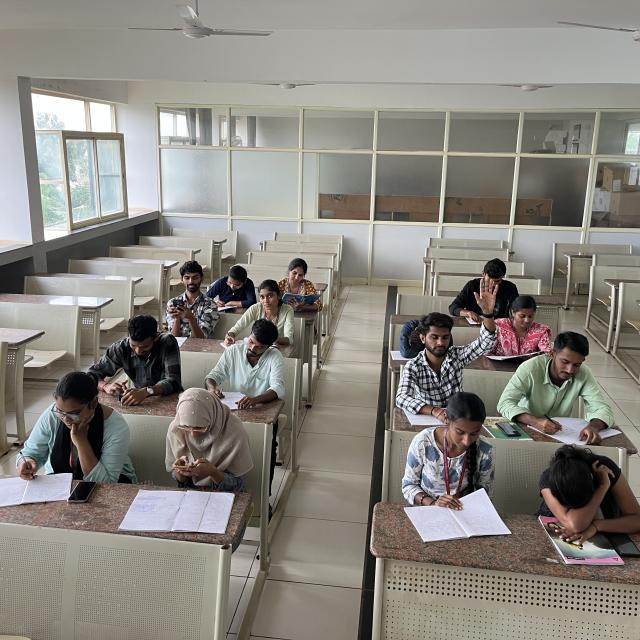Hand Rising: (396, 278, 504, 406)
Reading: (402, 395, 517, 541), (489, 296, 563, 365), (451, 259, 522, 324), (266, 252, 334, 312)
Sleeping: (532, 439, 639, 566), (382, 313, 468, 367)
Using Phone: (160, 388, 261, 491), (83, 319, 184, 409), (159, 261, 223, 336)
Writing: (10, 378, 128, 514), (513, 332, 625, 443), (211, 329, 290, 415), (224, 280, 300, 352), (204, 258, 259, 316)
